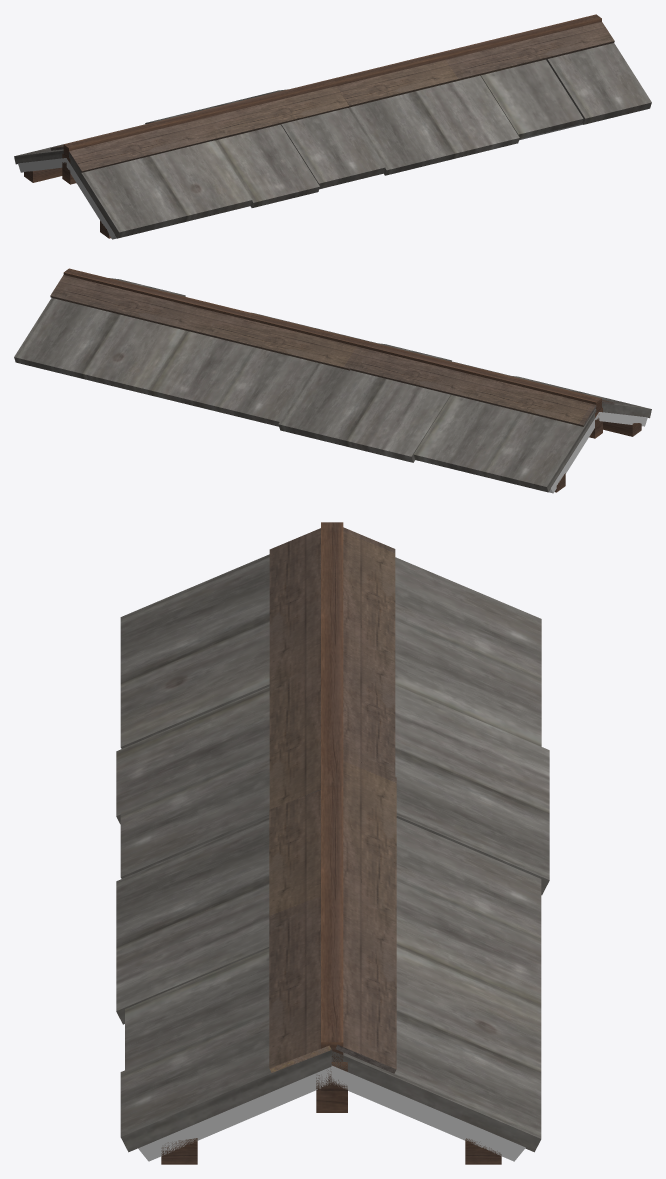
File: fence_top2a_2t.fbx
The picture shows the model from 3 angles, top to bottom: view 1: azimuth 30°, elevation 25°; view 2: azimuth 150°, elevation 25°; view 3: azimuth 270°, elevation 25°; orthographic projection. The views are drawn at different scales.
Visible parts, largest first — view 1: fence_top2a_2t; view 2: fence_top2a_2t; view 3: fence_top2a_2t.
Boxes of the visible parts, <box> form: fence_top2a_2t: <box>14,14,651,239</box>; fence_top2a_2t: <box>14,268,651,493</box>; fence_top2a_2t: <box>116,522,549,1164</box>.
Bounding box in the file's own units: 440 × 48.2 × 155.
